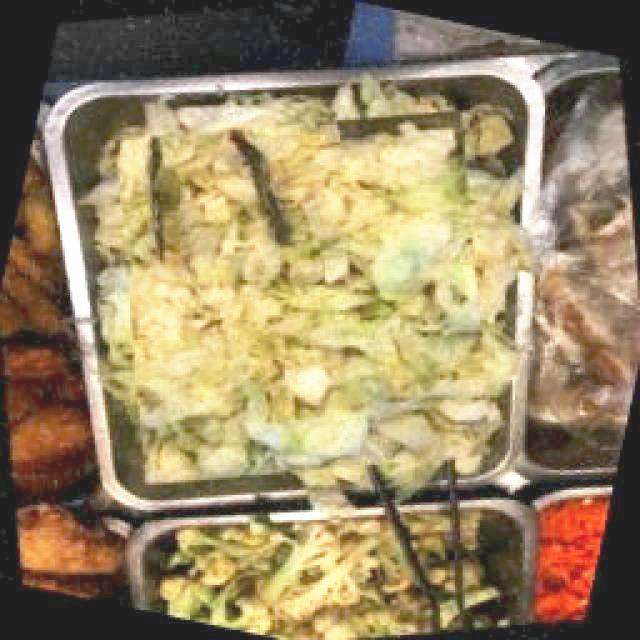carrot_eggs: (531, 491, 612, 623)
chinese_cabbage: (81, 79, 542, 498)
